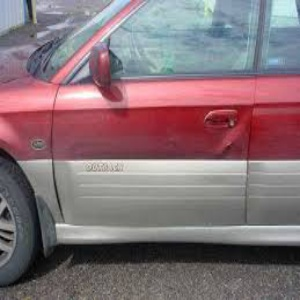door_scratch: (141, 122, 240, 167)
